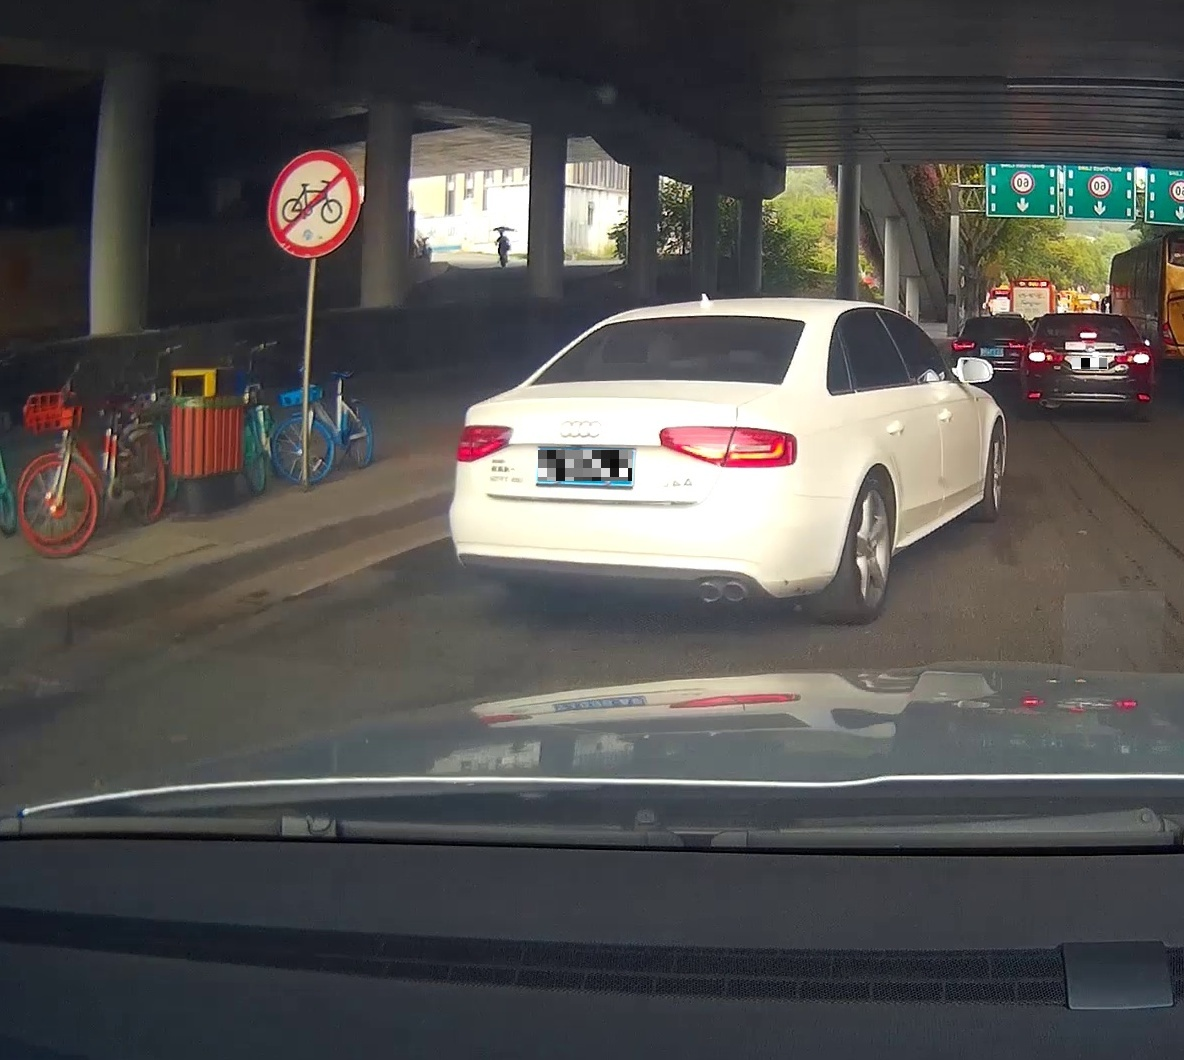L_light: (454, 425, 514, 462), (1028, 351, 1064, 364)
R_light: (658, 425, 797, 468), (1114, 352, 1150, 364)
T_light: (674, 316, 716, 325), (1079, 332, 1098, 338)
day-brake: (1023, 311, 1155, 418)
day-right: (448, 306, 817, 632)
plate_1: (538, 450, 632, 481)
plate_2: (1072, 358, 1107, 369)
